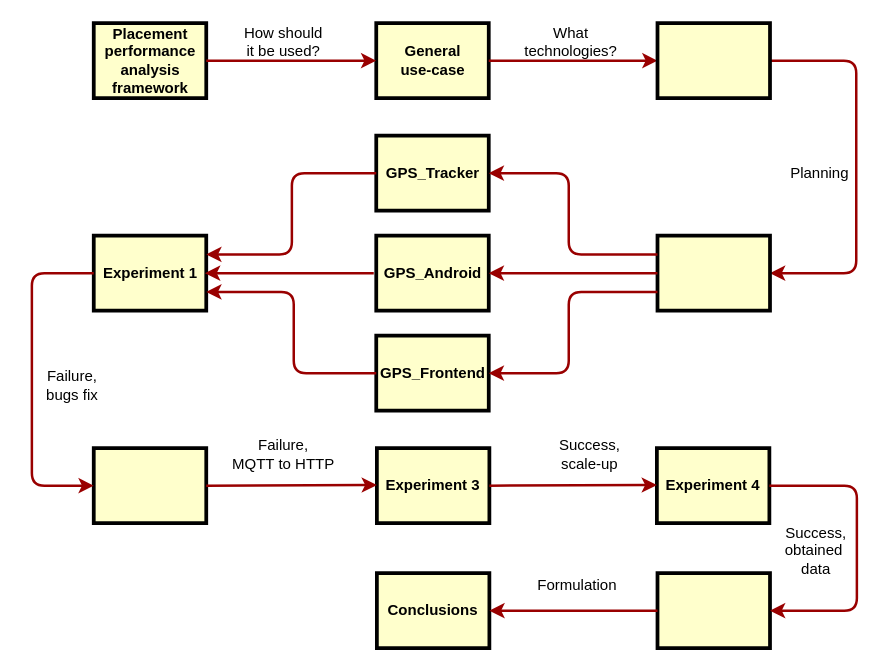
Some shapes in this 889 by 671 pixel diagram are drawn without their labels. The shapes that lost their labels are listed below. From the top down, each one's box as (x1, y1, x2, y2) in pixels, then its label:
(655, 21, 771, 99): Abstract level design
(655, 233, 771, 312): Architectural composition
(91, 446, 208, 524): Experiment 2
(655, 571, 771, 649): Analysis
